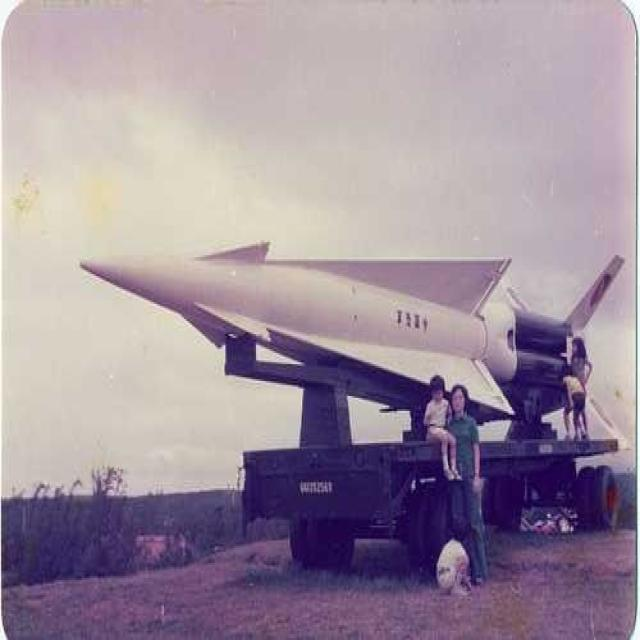missile: (76, 222, 522, 393)
